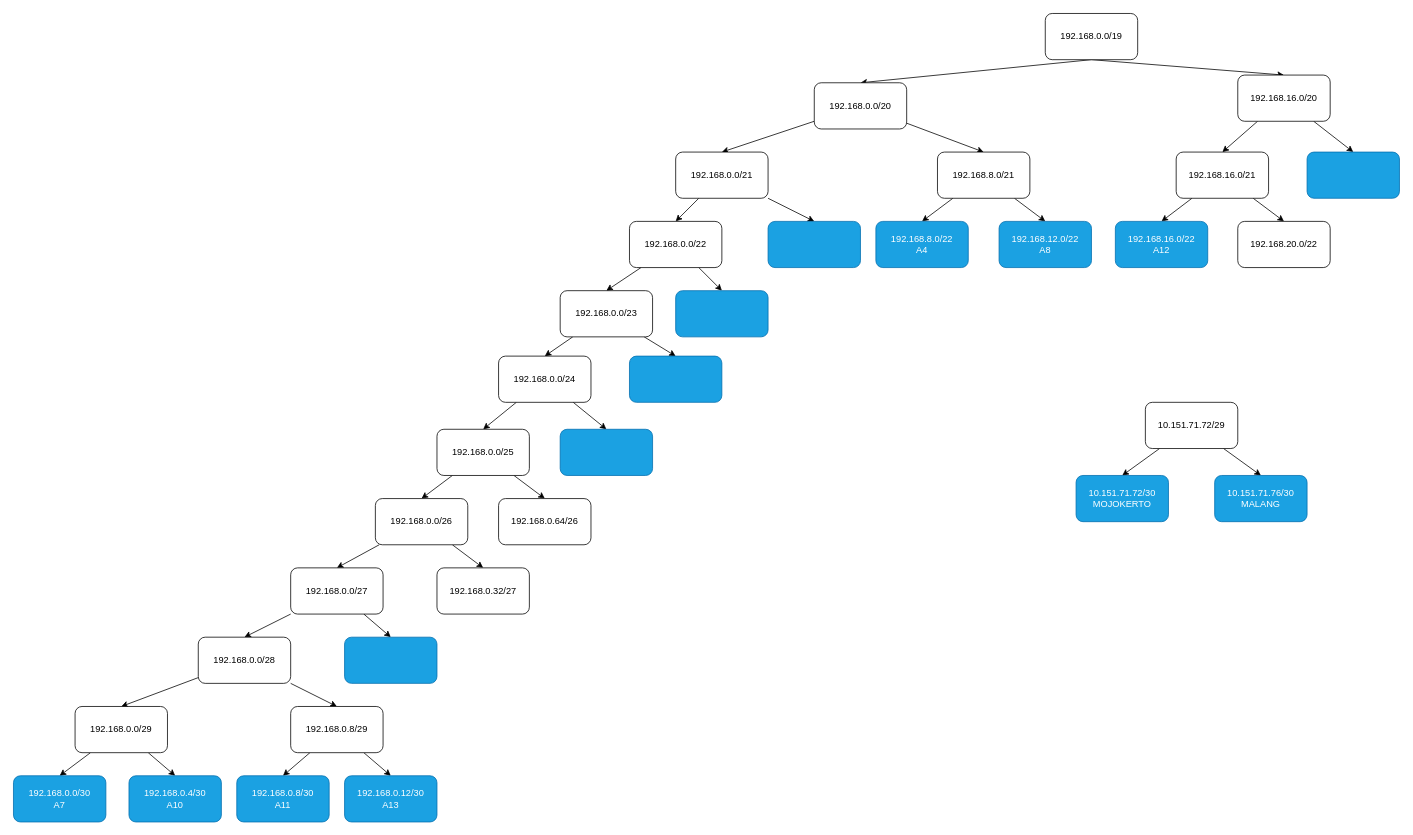
The diagram is 1413 pixels wide and 835 high, and some of its shapes have lost their labels. Each missing label, with the centre of its shape:
192.168.0.128/25 A5: point (606, 452)
192.168.0.16/28 A3: point (390, 659)
192.168.1.0/24 A2: point (675, 378)
192.168.2.0/23 A9: point (721, 313)
192.168.24.0/21 A6: point (1352, 174)
192.168.4.0/22 A1: point (813, 244)
